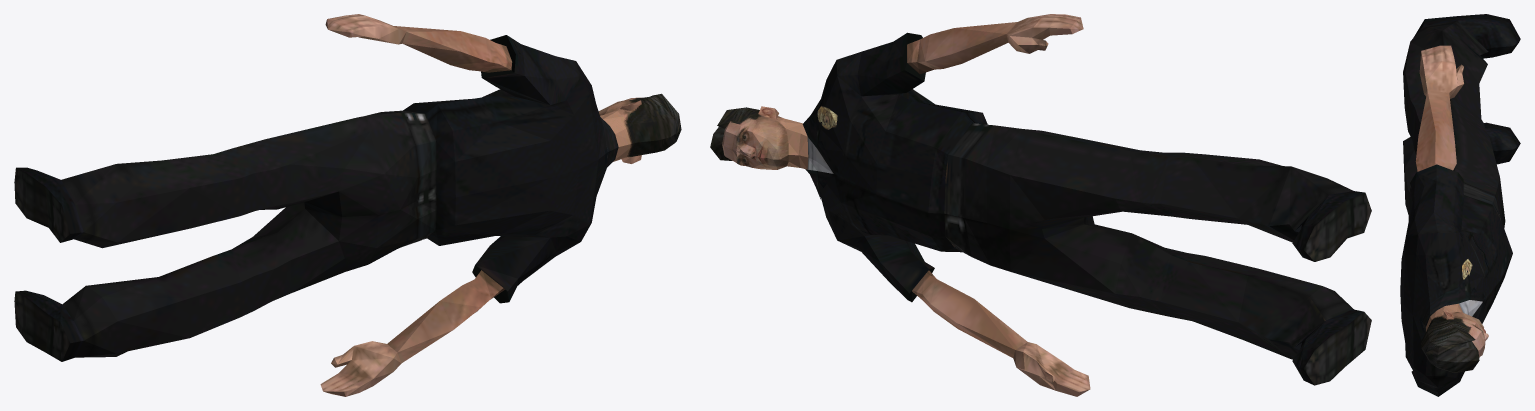
The model's file is lapdna.obj.
3 renders of one model, left to right at view 1: azimuth 30°, elevation 25°; view 2: azimuth 150°, elevation 25°; view 3: azimuth 270°, elevation 25°, orthographic. The views are drawn at different scales.
Visible parts, largest first — view 1: noname_0; view 2: noname_0; view 3: noname_0.
Part boxes in pixels (bbox=[...]): noname_0: bbox=[14, 14, 681, 396]; noname_0: bbox=[710, 14, 1371, 396]; noname_0: bbox=[1400, 14, 1520, 396].
Bounding box in the file's own units: 1.84 × 1.03 × 0.3476.
Materials: 1 (1 with a texture image).
